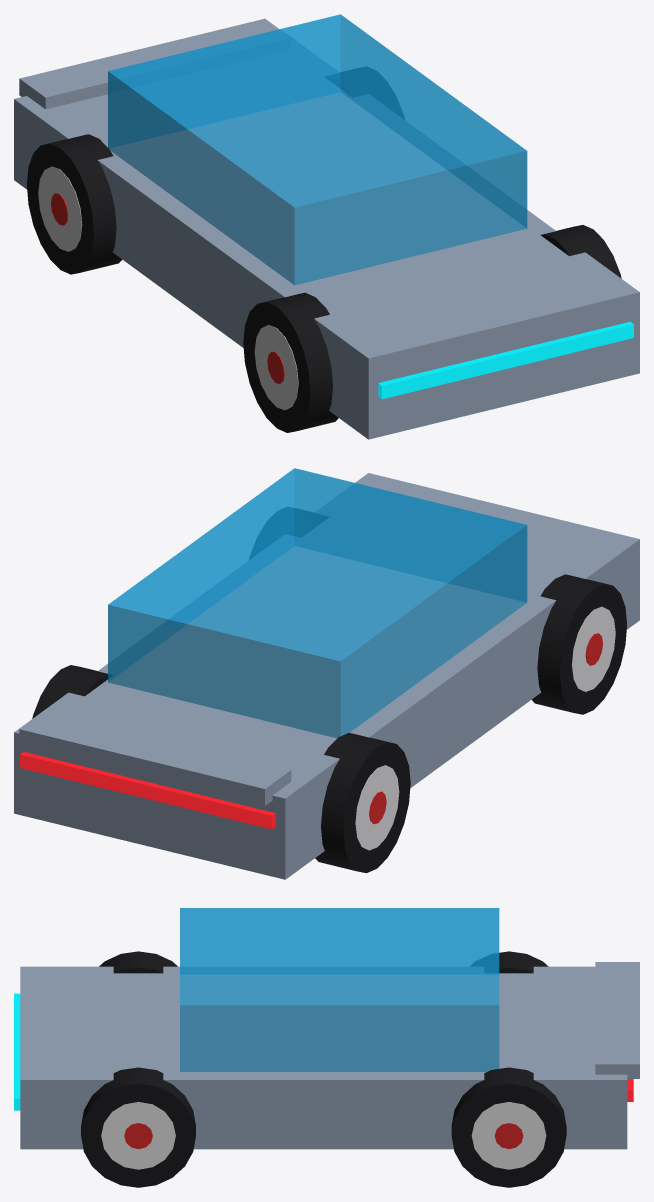
Rendered from hyundai_ioniq6.glb.
The picture shows the model from 3 angles, top to bottom: view 1: azimuth 30°, elevation 25°; view 2: azimuth 150°, elevation 25°; view 3: azimuth 270°, elevation 25°; orthographic projection. The views are drawn at different scales.
Bounding box in the file's own units: 0.5037 × 0.2908 × 1.
